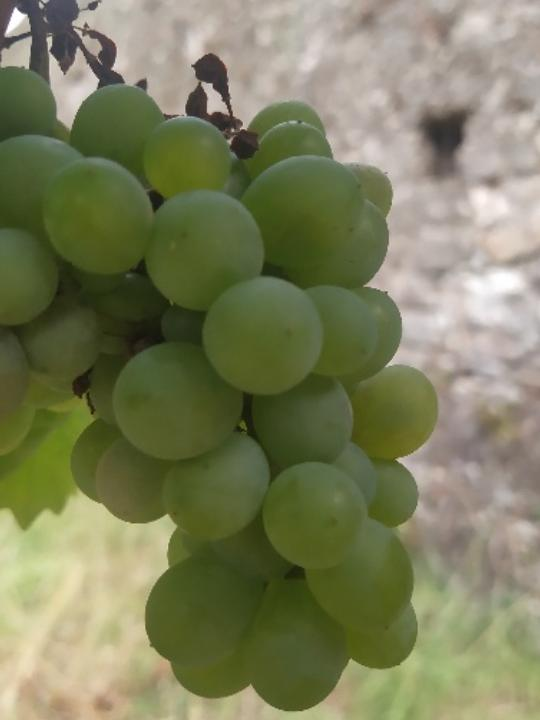grape: (0, 0, 443, 720)
